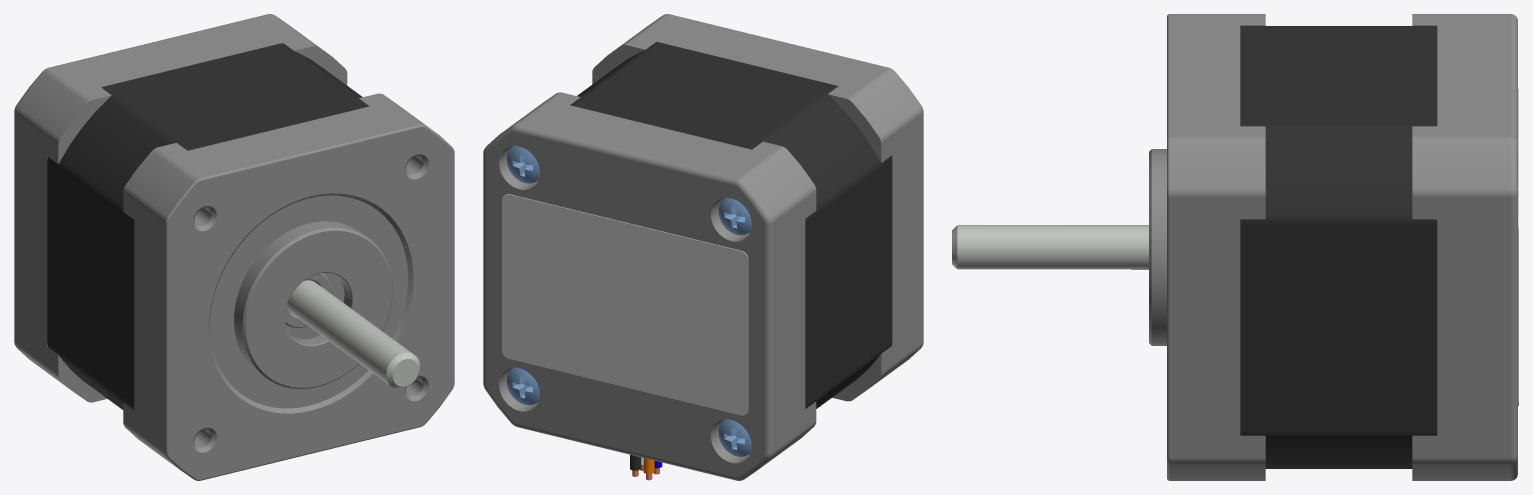
The picture shows the model from 3 angles, left to right: view 1: azimuth 30°, elevation 25°; view 2: azimuth 150°, elevation 25°; view 3: azimuth 270°, elevation 25°; orthographic projection. The views are drawn at different scales.
Visible parts, largest first — view 1: MICROCON_Krokovy-motor_NEMA-17_SX17-1005LQCEF; view 2: MICROCON_Krokovy-motor_NEMA-17_SX17-1005LQCEF; view 3: MICROCON_Krokovy-motor_NEMA-17_SX17-1005LQCEF.
Boxes of the visible parts, x1,y1,x2,y2 form: MICROCON_Krokovy-motor_NEMA-17_SX17-1005LQCEF: (14,14,454,480); MICROCON_Krokovy-motor_NEMA-17_SX17-1005LQCEF: (483,14,923,480); MICROCON_Krokovy-motor_NEMA-17_SX17-1005LQCEF: (952,14,1518,480).
Size of the model in its own units: 0.0423 by 0.047 by 0.0633.
